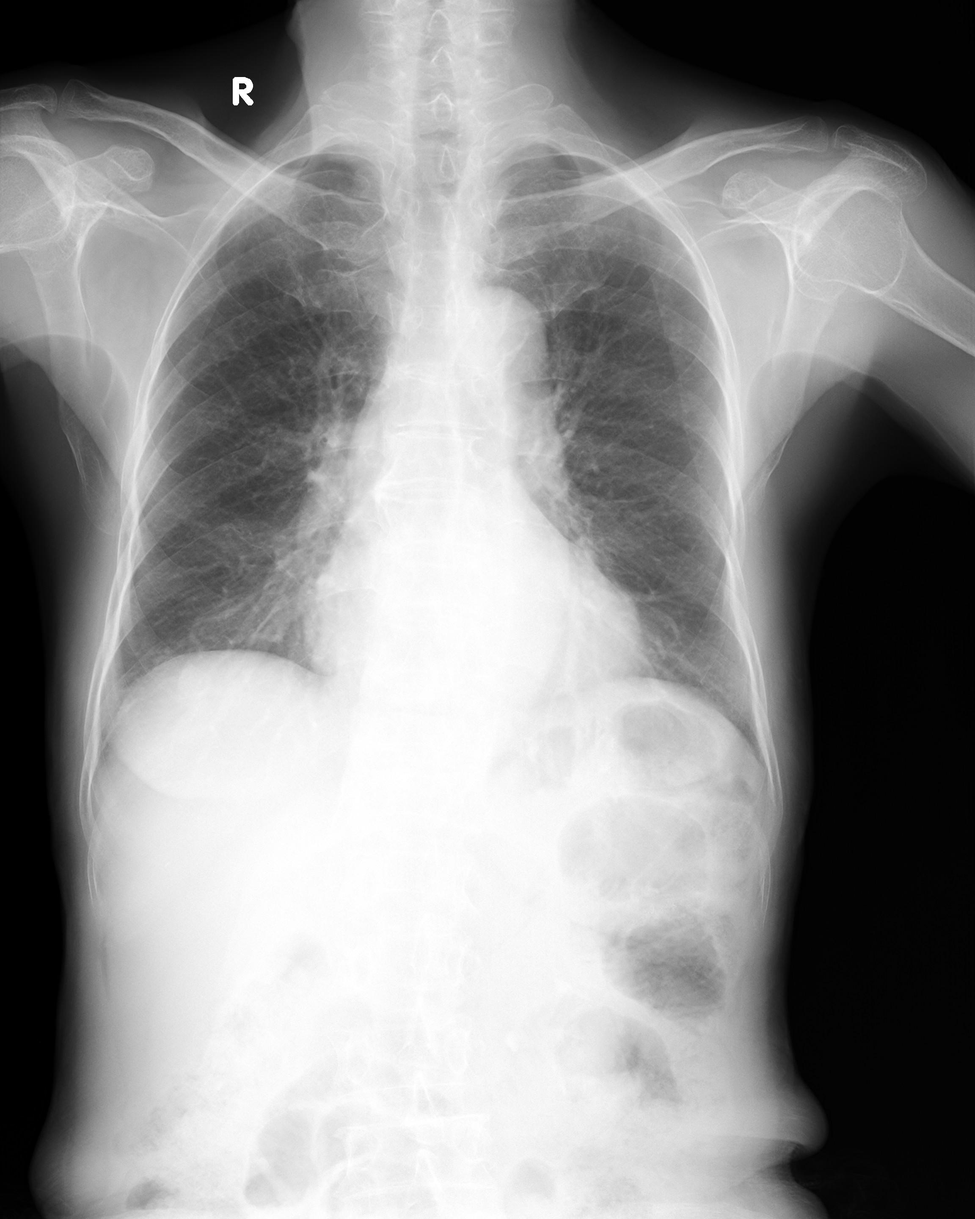Aortic enlargement: (450, 287, 551, 439)
